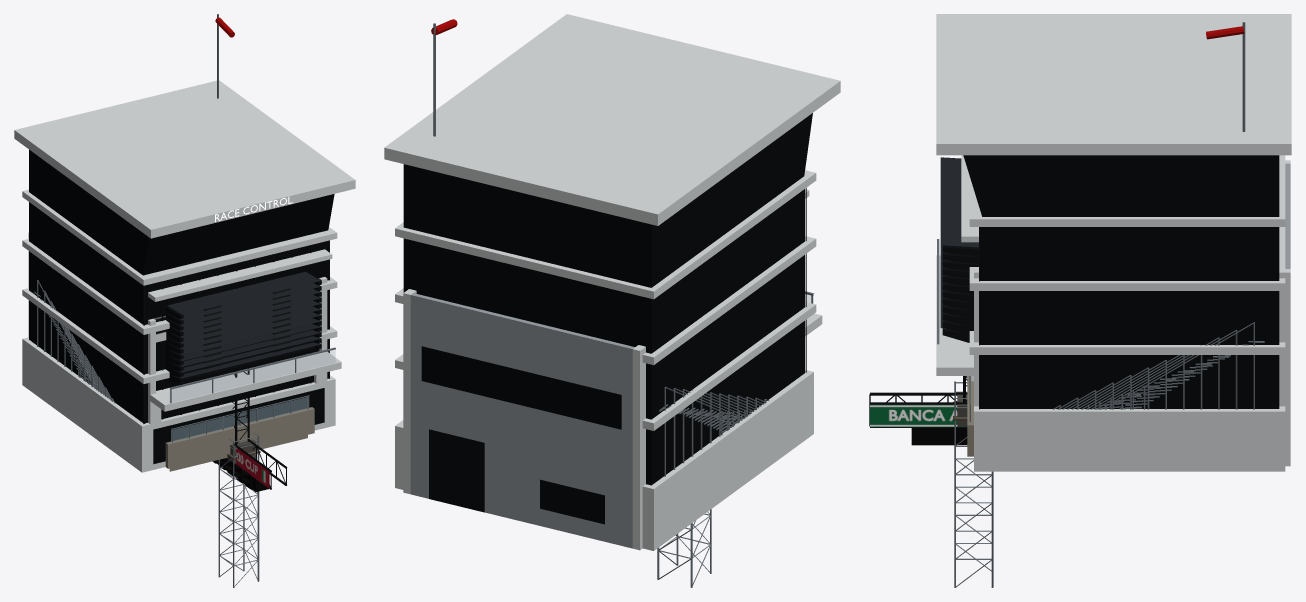
The model's file is trackside.glb.
3 views of the same model, side by side, from view 1: azimuth 30°, elevation 25°; view 2: azimuth 150°, elevation 25°; view 3: azimuth 270°, elevation 25° (orthographic). The views are drawn at different scales.
Visible parts, largest first — view 1: RaceControl, PitBay, StandFrame_T03, StandFrame_T04, TvTower, StandFrame_T14, PitEndL, StandFrame_T06, StandFrame_T05, GantryBeam, StandFrame_T07, StandFrame_T08 (+8 smaller); view 2: RaceControl, PitBay, PitEndL, PitEndR, TvTower; view 3: RaceControl, PitEndR, GantryBeam, PitBay, StandFrame_T14, TvTower, StandEndR_T14, GantryLights, StandEndR_T13, StandEndR_T12, StandEndR_T11, StandEndR_T10 (+2 smaller).
Part boxes in pixels (x1,y1,x2,y2): RaceControl: [14, 14, 355, 472]; PitBay: [154, 250, 336, 469]; StandFrame_T03: [165, 342, 320, 467]; StandFrame_T04: [165, 336, 320, 441]; TvTower: [218, 432, 260, 587]; StandFrame_T14: [165, 271, 319, 318]; PitEndL: [28, 233, 170, 469]; StandFrame_T06: [165, 324, 319, 365]; StandFrame_T05: [165, 330, 320, 371]; GantryBeam: [234, 440, 287, 489]; StandFrame_T07: [165, 318, 320, 359]; StandFrame_T08: [165, 312, 320, 353]; RaceControl: [384, 14, 840, 550]; PitBay: [410, 291, 814, 548]; PitEndL: [632, 189, 822, 550]; PitEndR: [403, 289, 416, 494]; TvTower: [657, 509, 711, 587]; RaceControl: [936, 14, 1291, 471]; PitEndR: [936, 233, 1290, 466]; GantryBeam: [869, 392, 967, 427]; PitBay: [936, 155, 1290, 363]; StandFrame_T14: [940, 157, 978, 247]; TvTower: [953, 381, 993, 587]; StandEndR_T14: [942, 245, 1264, 409]; GantryLights: [911, 428, 967, 445]; StandEndR_T13: [942, 253, 1237, 409]; StandEndR_T12: [942, 260, 1229, 409]; StandEndR_T11: [942, 268, 1211, 409]; StandEndR_T10: [942, 275, 1193, 409].
Bounding box in the file's own units: 14.8 × 32.42 × 20.34.
Materials: 21 (1 with a texture image).
